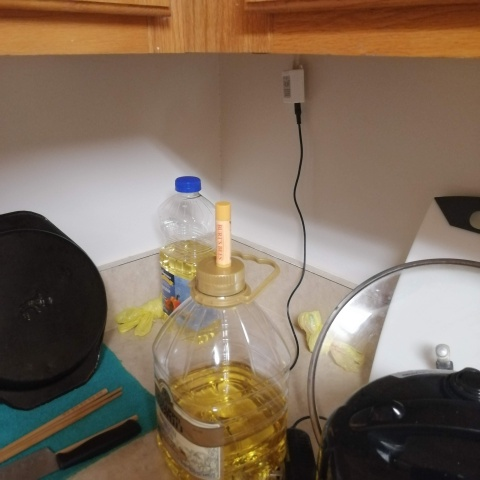chapstick: (214, 201, 233, 268)
